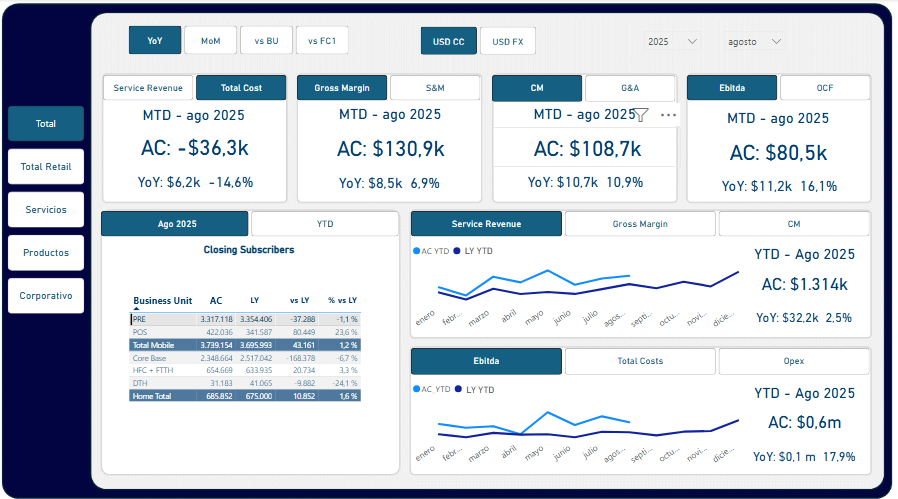

The page's visual inventory and layout, read from the dashboard file:
{"tool":"powerbi","page":{"name":"Dashboard","canvas":[1280,720],"ordinal":0},"visuals":[{"type":"advancedSlicerVisual","fields":{"Values":["Seccion_Service_Revenue.Cuenta Contable"]},"box":[153,108.4,260.1,37],"z":0},{"type":"advancedSlicerVisual","fields":{"Values":["Seccion_BU.Unidades Negocio"]},"box":[13,145.4,119.5,305.3],"z":1000},{"type":"card","title":"Tarjeta_Service","fields":{"Values":["Medidas.AC_Service_Cost"]},"box":[148.3,180,267.8,56.2],"z":2000},{"type":"slicer","fields":{"Values":["Calendario.Año"]},"box":[910.1,36,101.4,47.1],"z":3000},{"type":"advancedSlicerVisual","fields":{"Values":["Tipos Cambio.Scenario"]},"box":[597.6,34.6,175.7,50.4],"z":4000},{"type":"card","title":"Tarjeta_Service","fields":{"Values":["Medidas.Diferencia_ServiceCosts_YTD"]},"box":[1053.8,428.8,187.5,45],"z":5000},{"type":"card","title":"Tarjeta_Service","fields":{"Values":["Medidas.Fecha MTD"]},"box":[148.6,140,265.7,47.1],"z":6000},{"type":"card","title":"Tarjeta_Service","fields":{"Values":["Medidas.AC_Gross_SyM_Visual"]},"box":[426.7,182.1,267.8,57.1],"z":7000},{"type":"card","title":"Tarjeta_Service","fields":{"Values":["Medidas.Diferencia_Gross_SyM"]},"box":[427,237.1,264,48.3],"z":8000},{"type":"card","title":"Tarjeta_Service","fields":{"Values":["Medidas.Fecha MTD"]},"box":[427.5,138.8,263.8,47.5],"z":9000},{"type":"advancedSlicerVisual","fields":{"Values":["Seccion_GrossMargin.Cuenta Contable"]},"box":[428.4,108.4,261.4,37],"z":10000},{"type":"card","title":"Tarjeta_Service","fields":{"Values":["Medidas.AC_CM_GyA"]},"box":[705.7,181.4,267.1,57.1],"z":11000},{"type":"card","title":"Tarjeta_Service","fields":{"Values":["Medidas.Diferencia_CM_GyA"]},"box":[704.1,235.8,264.3,49],"z":12000},{"type":"card","title":"Tarjeta_Service","fields":{"Values":["Medidas.Fecha MTD"]},"box":[703.8,138.8,262.5,47.5],"z":13000},{"type":"advancedSlicerVisual","fields":{"Values":["Seccion_ContributionMarging.Cuenta Contable"]},"box":[705,108.4,261.4,38.2],"z":14000},{"type":"card","title":"Tarjeta_Service","fields":{"Values":["Medidas.AC_Ebitda_ECF"]},"box":[977.1,187.1,267.1,57.1],"z":15000},{"type":"card","title":"Tarjeta_Service","fields":{"Values":["Medidas.Diferencia_Ebitda_OCF"]},"box":[979.7,241.5,264.3,49],"z":16000},{"type":"card","title":"Tarjeta_Service","fields":{"Values":["Medidas.Fecha MTD"]},"box":[978.8,146.2,261.2,46.2],"z":17000},{"type":"advancedSlicerVisual","fields":{"Values":["Seccion_Ebitda.Cuenta Contable"]},"box":[980.4,108.4,260.1,37],"z":18000},{"type":"lineChart","fields":{"Category":["TablaMeses.MesNombre"],"Y":["Medidas.AC YTD","Medidas.CompYTD"]},"box":[586.9,337.2,486.7,141.6],"z":19000},{"type":"advancedSlicerVisual","fields":{"Values":["Seccion_1_YTD.Cuenta Contable"]},"box":[589,300.9,651.5,37],"z":20000},{"type":"slicer","fields":{"Values":["Calendario.Mes"]},"box":[1023,36,107.1,47.1],"z":21000},{"type":"card","title":"Tarjeta_Service","fields":{"Values":["Medidas.Fecha YTD"]},"box":[1053.8,337.5,188.8,47.5],"z":22000},{"type":"card","title":"Tarjeta_Service","fields":{"Values":["Medidas.AC Valor YTD"]},"box":[1053.8,375,188.8,55],"z":23000},{"type":"card","title":"Tarjeta_Service","fields":{"Values":["Medidas.Diferencia_ServiceCosts_Visual"]},"box":[152.5,236.2,261.2,45],"z":24000},{"type":"advancedSlicerVisual","fields":{"Values":["Scenario.Scenario"]},"box":[184.3,33.1,322.6,51.8],"z":25000},{"type":"advancedSlicerVisual","fields":{"Values":["Seccion Ebitda Anual.Cuenta Contable"]},"box":[589,494.7,651.5,38.2],"z":26000},{"type":"card","title":"Tarjeta_Service","fields":{"Values":["Medidas.Diferencia_Ebitda_Opex_YTD"]},"box":[1053.8,626.2,187.5,45],"z":27000},{"type":"lineChart","fields":{"Category":["TablaMeses.MesNombre"],"Y":["Medidas.AC_YTD","Medidas.Comparativo_YTD"]},"box":[586.1,532.8,486.7,138.2],"z":28000},{"type":"card","title":"Tarjeta_Service","fields":{"Values":["Medidas.Fecha YTD"]},"box":[1053.8,533.8,188.8,47.5],"z":29000},{"type":"card","title":"Tarjeta_Service","fields":{"Values":["Medidas.AC Valor EBITDA YTD"]},"box":[1053.8,571.2,188.8,56.2],"z":30000},{"type":"tableEx","fields":{"Values":["DimBU.Business Unit","Closing Subscribers.AC","Closing Subscribers.COMP","Closing Subscribers.vsComp","Closing Subscribers.porComp"]},"box":[178.5,363.3,365.9,169.6],"z":31000},{"type":"advancedSlicerVisual","fields":{"Values":["Grafico Tabla.Cuenta Contable"]},"box":[150.4,300.9,423.3,37],"z":32000},{"type":"card","title":"Tarjeta_Service","fields":{"Values":["Medidas.Nombre_comparativo_YTD"]},"box":[661,341.3,54.7,34.6],"z":33000},{"type":"card","title":"Tarjeta_Service","fields":{"Values":["Closing Subscribers.Nombre_comparativo_Tabla"]},"box":[331.5,366.8,70.6,25.1],"z":34000},{"type":"card","title":"Tarjeta_Service","fields":{"Values":["Closing Subscribers.Nombre_vs_Tabla"]},"box":[398.8,367.5,71.2,27.5],"z":35000},{"type":"card","title":"Tarjeta_Service","fields":{"Values":["Closing Subscribers.%_Nombre_vs_Tabla"]},"box":[461.2,363.8,66.2,31.2],"z":36000},{"type":"tableEx","fields":{"Values":["Tabla_ARPU.Business Unit","Tabla_ARPU.ARPU_PRE","Tabla_ARPU._COMP","Tabla_ARPU._vsComp","Tabla_ARPU._%Comp"]},"box":[178.5,552,353.1,118.6],"z":37000},{"type":"card","title":"Tarjeta_Service","fields":{"Values":["Closing Subscribers.Nombre_comparativo_Tabla"]},"box":[323.5,552.5,71.8,30.8],"z":38000},{"type":"card","title":"Tarjeta_Service","fields":{"Values":["Closing Subscribers.Nombre_vs_Tabla"]},"box":[387.6,553.3,72.7,28],"z":39000},{"type":"card","title":"Tarjeta_Service","fields":{"Values":["Closing Subscribers.%_Nombre_vs_Tabla"]},"box":[450,549.5,66.3,31.9],"z":40000},{"type":"card","title":"Tarjeta_Service","fields":{"Values":["Medidas.AC_Cabecera"]},"box":[279.2,552,59.9,29.3],"z":41000},{"type":"card","title":"Tarjeta_Service","fields":{"Values":["Medidas.Nombre_comparativo_YTD"]},"box":[662.9,535.5,53.5,38.2],"z":42000},{"type":"card","fields":{"Values":["Medidas.Closing"]},"box":[284.3,341.7,150.4,25.5],"z":43000},{"type":"card","fields":{"Values":["Tabla_ARPU.Nombre_ARPU"]},"box":[284.3,526.5,150.4,25],"z":44000},{"type":"card","title":"Tarjeta_Service","fields":{"Values":["Medidas.Fecha_Seleccionada"]},"box":[214.3,301.4,88.6,35.7],"z":45000}]}

Visuals, with their boxes in screenshot pixels (x1, y1, x2, y2), scaled from the page's 1280x720 canvas onto the 898x499 screenshot:
advancedSlicerVisual - Seccion_Service_Revenue.Cuenta Contable: [107,75,290,101]
advancedSlicerVisual - Seccion_BU.Unidades Negocio: [9,101,93,312]
"Tarjeta_Service" card: [104,125,292,164]
slicer - Calendario.Año: [638,25,710,58]
advancedSlicerVisual - Tipos Cambio.Scenario: [419,24,543,59]
"Tarjeta_Service" card: [739,297,871,328]
"Tarjeta_Service" card: [104,97,291,130]
"Tarjeta_Service" card: [299,126,487,166]
"Tarjeta_Service" card: [300,164,485,198]
"Tarjeta_Service" card: [300,96,485,129]
advancedSlicerVisual - Seccion_GrossMargin.Cuenta Contable: [301,75,484,101]
"Tarjeta_Service" card: [495,126,682,165]
"Tarjeta_Service" card: [494,163,679,197]
"Tarjeta_Service" card: [494,96,678,129]
advancedSlicerVisual - Seccion_ContributionMarging.Cuenta Contable: [495,75,678,102]
"Tarjeta_Service" card: [685,130,873,169]
"Tarjeta_Service" card: [687,167,873,201]
"Tarjeta_Service" card: [687,101,870,133]
advancedSlicerVisual - Seccion_Ebitda.Cuenta Contable: [688,75,870,101]
lineChart - TablaMeses.MesNombre x Medidas.AC YTD: [412,234,753,332]
advancedSlicerVisual - Seccion_1_YTD.Cuenta Contable: [413,209,870,234]
slicer - Calendario.Mes: [718,25,793,58]
"Tarjeta_Service" card: [739,234,872,267]
"Tarjeta_Service" card: [739,260,872,298]
"Tarjeta_Service" card: [107,164,290,195]
advancedSlicerVisual - Scenario.Scenario: [129,23,356,59]
advancedSlicerVisual - Seccion Ebitda Anual.Cuenta Contable: [413,343,870,369]
"Tarjeta_Service" card: [739,434,871,465]
lineChart - TablaMeses.MesNombre x Medidas.AC_YTD: [411,369,753,465]
"Tarjeta_Service" card: [739,370,872,403]
"Tarjeta_Service" card: [739,396,872,435]
tableEx - DimBU.Business Unit x Closing Subscribers.AC: [125,252,382,369]
advancedSlicerVisual - Grafico Tabla.Cuenta Contable: [106,209,402,234]
"Tarjeta_Service" card: [464,237,502,261]
"Tarjeta_Service" card: [233,254,282,272]
"Tarjeta_Service" card: [280,255,330,274]
"Tarjeta_Service" card: [324,252,370,274]
tableEx - Tabla_ARPU.Business Unit x Tabla_ARPU.ARPU_PRE: [125,383,373,465]
"Tarjeta_Service" card: [227,383,277,404]
"Tarjeta_Service" card: [272,383,323,403]
"Tarjeta_Service" card: [316,381,362,403]
"Tarjeta_Service" card: [196,383,238,403]
"Tarjeta_Service" card: [465,371,503,398]
card - Medidas.Closing: [199,237,305,254]
card - Tabla_ARPU.Nombre_ARPU: [199,365,305,382]
"Tarjeta_Service" card: [150,209,213,234]
